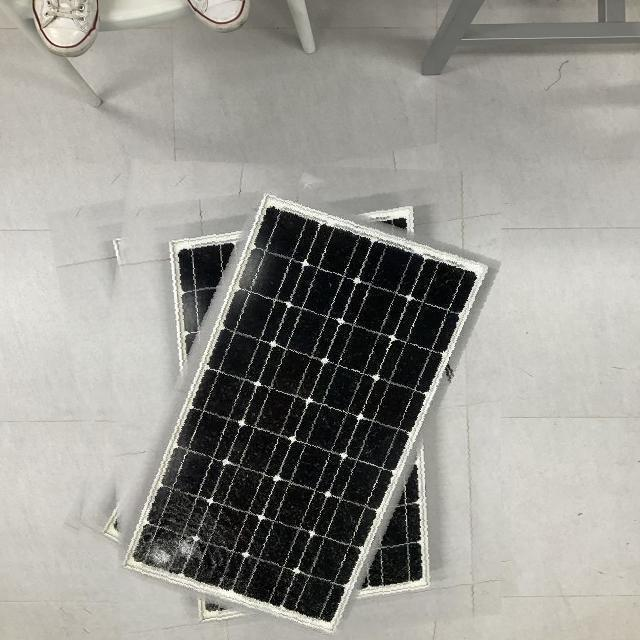Photovoltaic-Panel: (63, 159, 500, 640)
